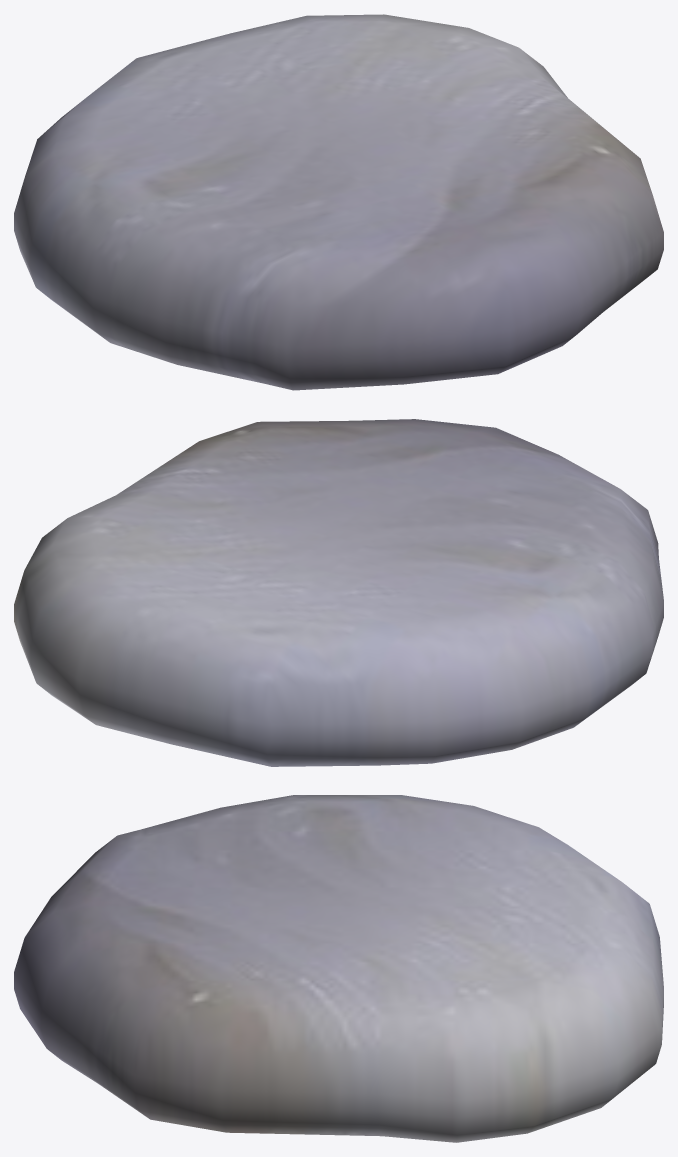
File: bun_la_3.fbx
3 renders of one model, top to bottom at view 1: azimuth 30°, elevation 25°; view 2: azimuth 150°, elevation 25°; view 3: azimuth 270°, elevation 25°, orthographic. The views are drawn at different scales.
Parts seen in each view (by area): view 1: bun_la.002; view 2: bun_la.002; view 3: bun_la.002.
Boxes of the visible parts, x1,y1,x2,y2 form: bun_la.002: (14, 14, 663, 390); bun_la.002: (14, 419, 663, 766); bun_la.002: (14, 795, 663, 1142).
Bounding box in the file's own units: 131 × 29.28 × 137.
Materials: 1 (1 with a texture image).
